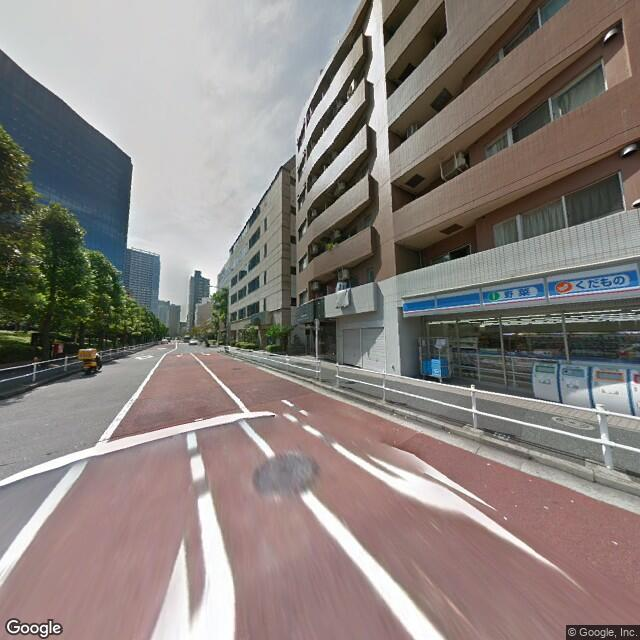lawson: (401, 257, 639, 317)
